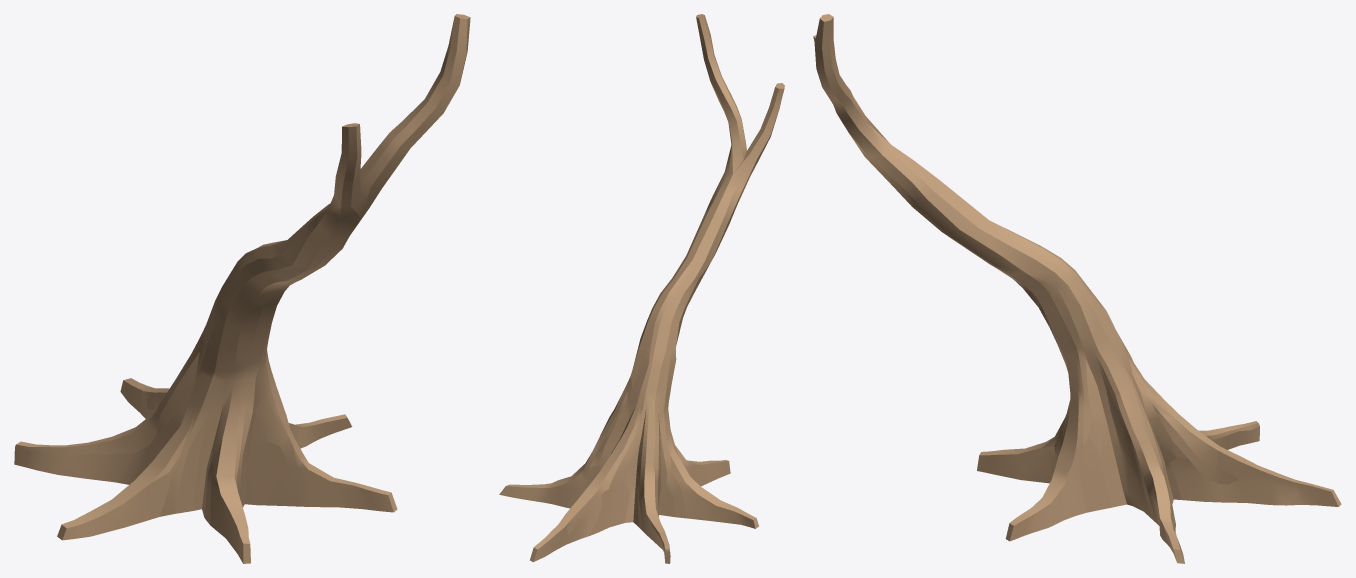
The model's file is jungle_trunk_beach_B.fbx.
3 views of the same model, side by side, from view 1: azimuth 30°, elevation 25°; view 2: azimuth 150°, elevation 25°; view 3: azimuth 270°, elevation 25° (orthographic). The views are drawn at different scales.
Visible parts, largest first — view 1: jungle_trunk_beach_B; view 2: jungle_trunk_beach_B; view 3: jungle_trunk_beach_B.
Part boxes in pixels (x1=…): jungle_trunk_beach_B: x1=14, y1=14, x2=470, y2=563; jungle_trunk_beach_B: x1=499, y1=14, x2=784, y2=563; jungle_trunk_beach_B: x1=813, y1=14, x2=1341, y2=563.
Bounding box in the file's own units: 217 × 358 × 337.
